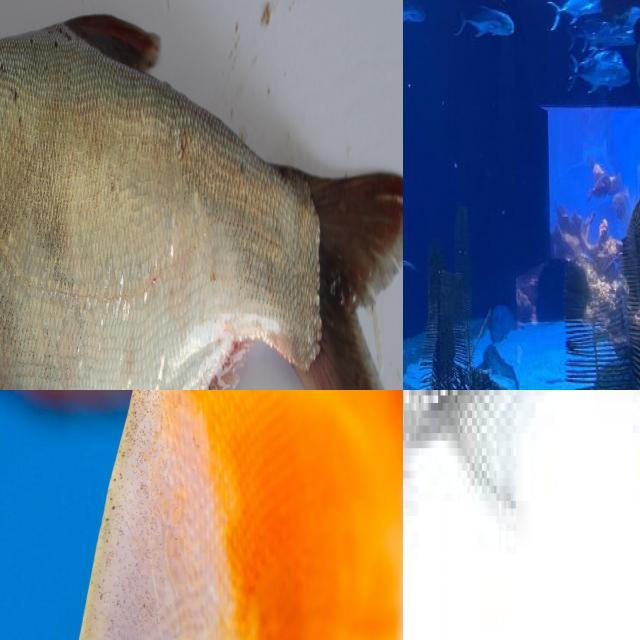fish: (0, 0, 403, 390), (403, 390, 623, 640)
